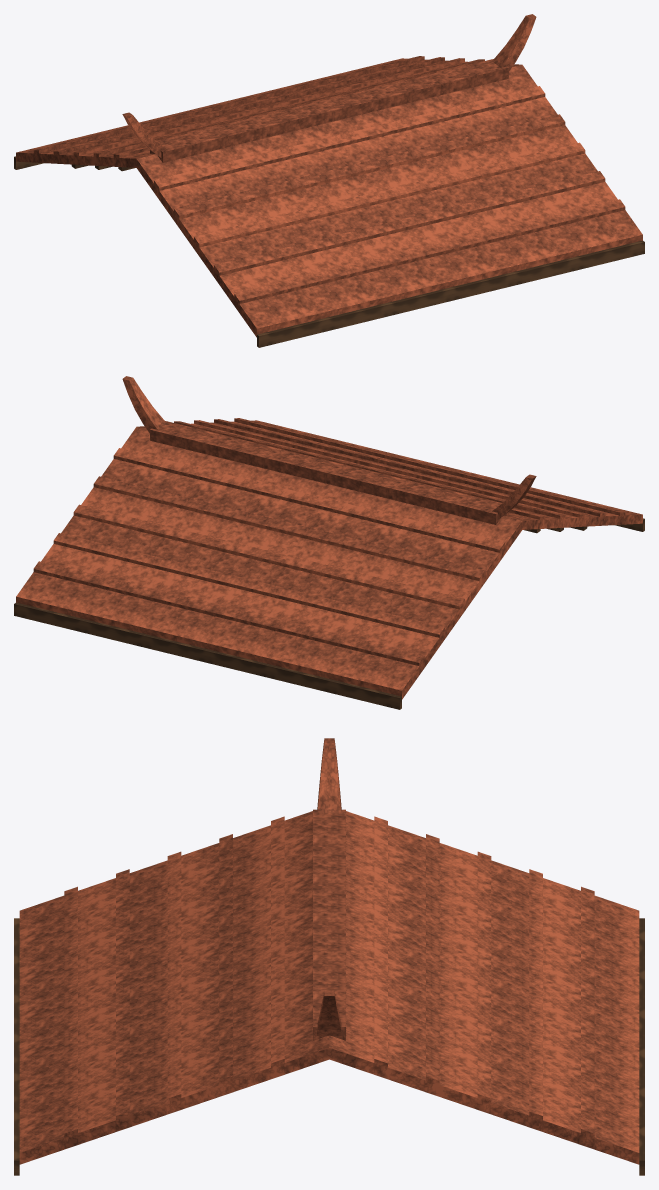
The model's file is house_roof.fbx.
The picture shows the model from 3 angles, top to bottom: view 1: azimuth 30°, elevation 25°; view 2: azimuth 150°, elevation 25°; view 3: azimuth 270°, elevation 25°; orthographic projection. The views are drawn at different scales.
Visible parts, largest first — view 1: house_roof; view 2: house_roof; view 3: house_roof.
Part boxes in pixels (x1,y1,x2,y2): house_roof: [14, 14, 644, 347]; house_roof: [14, 376, 644, 709]; house_roof: [14, 738, 644, 1175].
Bounding box in the file's own units: 659 × 224 × 682.
